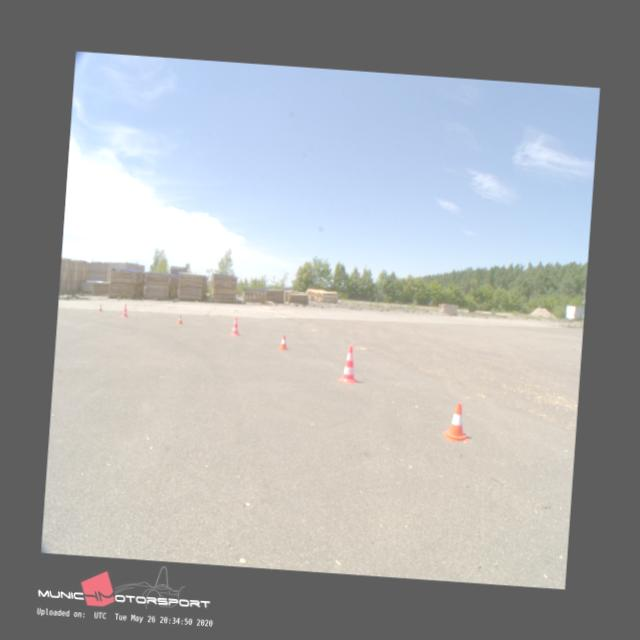large_orange_cone: (338, 344, 358, 383), (230, 316, 240, 335), (121, 304, 128, 316)
orange_cone: (443, 402, 470, 441), (278, 334, 288, 348), (176, 314, 183, 324), (98, 304, 102, 311)
